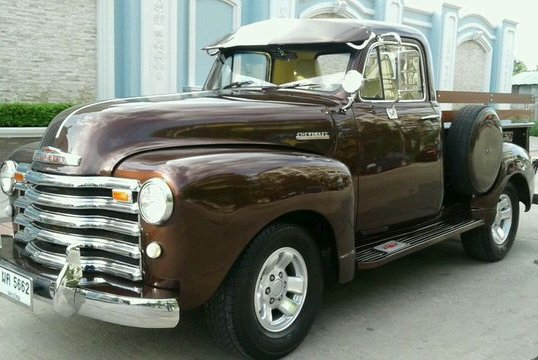van: (1, 15, 535, 358)
